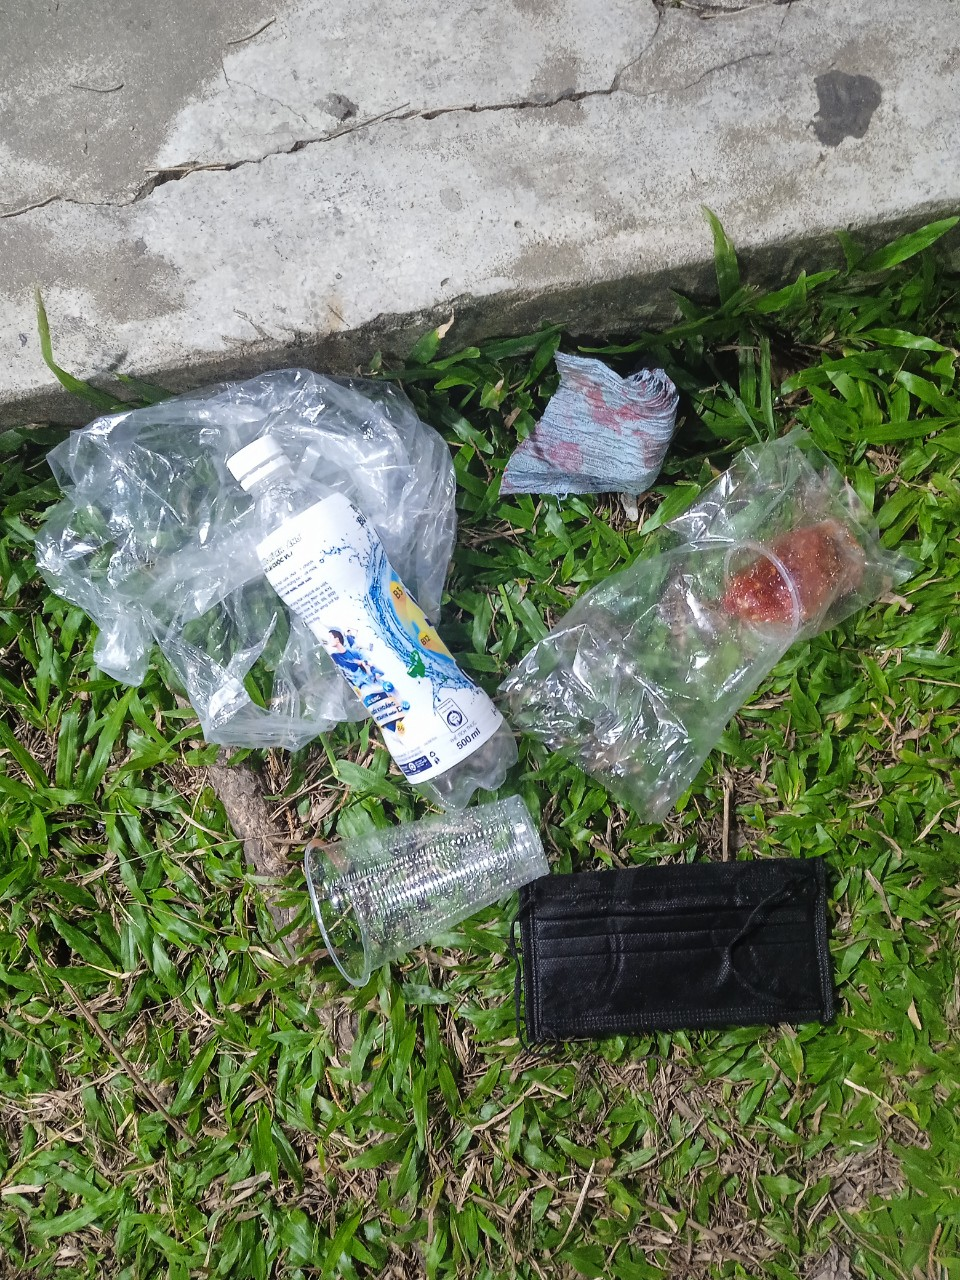clothes: (483, 859, 866, 1042), (499, 322, 700, 512)
plastic: (228, 440, 521, 797), (266, 809, 567, 969)
plastic bag: (42, 378, 452, 752), (509, 444, 914, 792)
